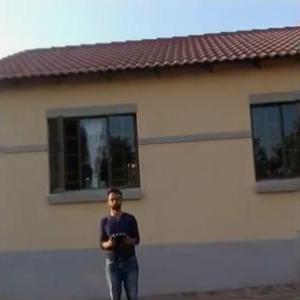follow: (97, 182, 146, 299)
